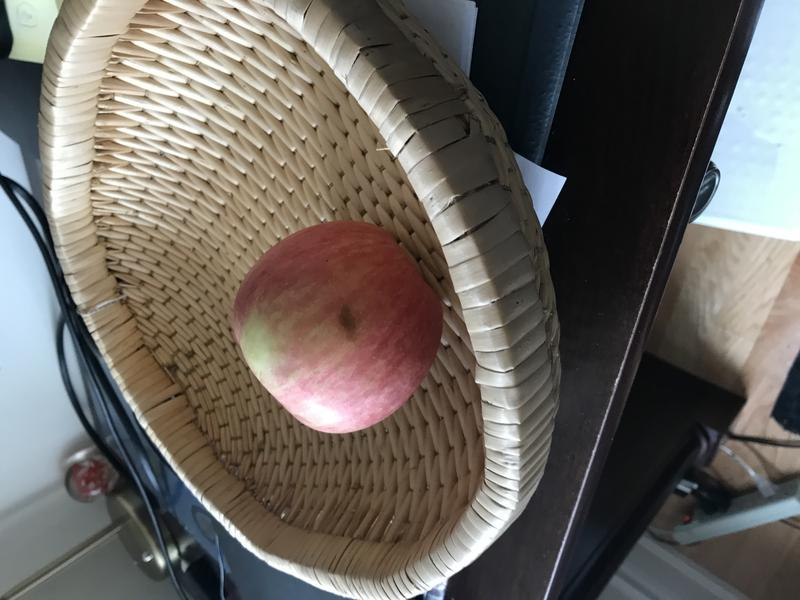red_apple: (214, 215, 459, 443)
